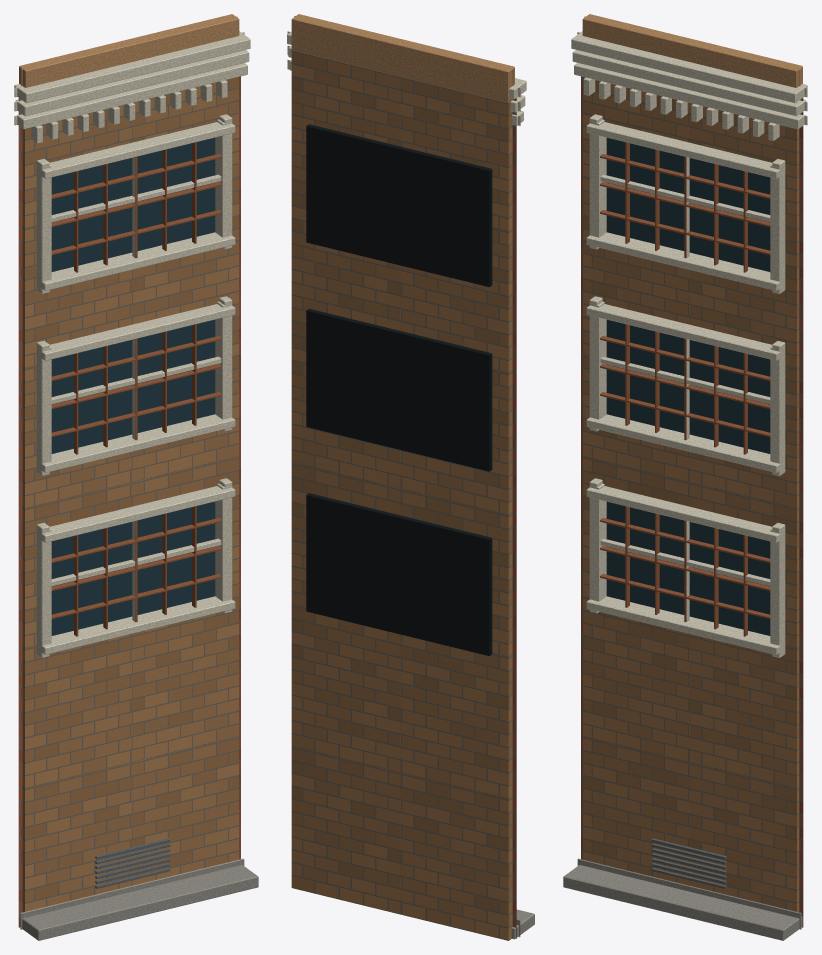
File: WRHS1_lod1.glb
The picture shows the model from 3 angles, left to right: view 1: azimuth 30°, elevation 25°; view 2: azimuth 150°, elevation 25°; view 3: azimuth 330°, elevation 25°; orthographic projection.
Parts seen in each view (by area): view 1: WRHS1_FRONT_LOD1; view 2: WRHS1_FRONT_LOD1; view 3: WRHS1_FRONT_LOD1.
Part boxes in pixels (x1=…): WRHS1_FRONT_LOD1: x1=14, y1=14, x2=258, y2=940; WRHS1_FRONT_LOD1: x1=287, y1=14, x2=534, y2=940; WRHS1_FRONT_LOD1: x1=563, y1=14, x2=807, y2=940.
Bounding box in the file's own units: 3.44 × 12.26 × 0.65.
9 materials, 7 textured.
